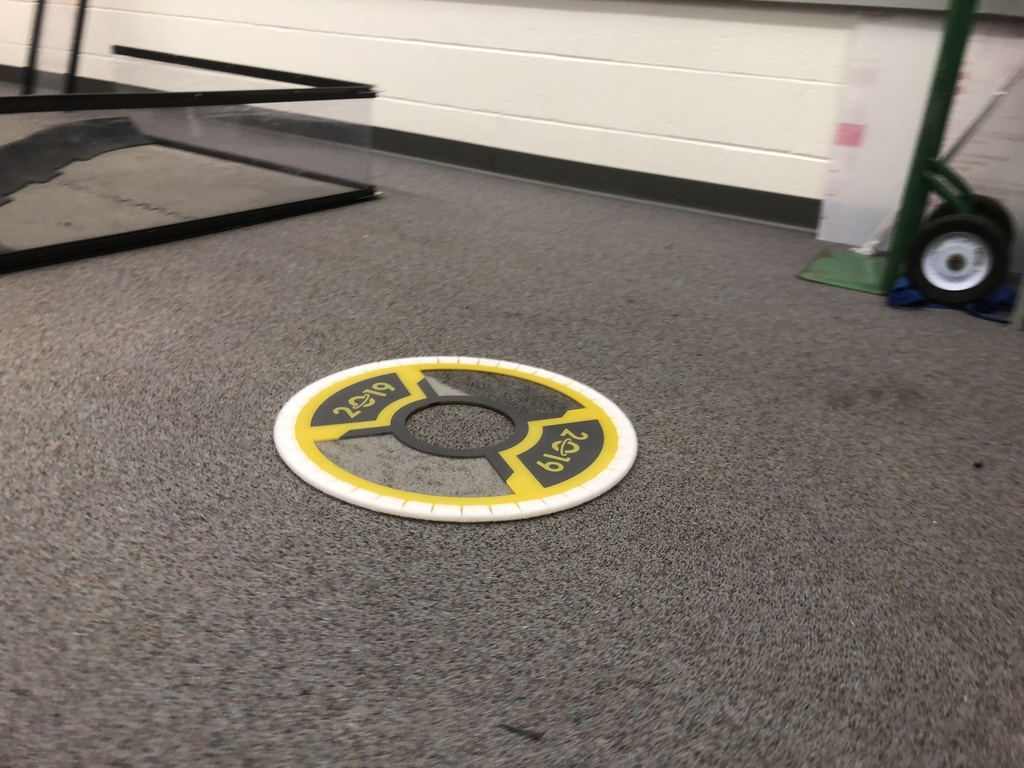hatch_panel: (266, 338, 660, 522)
